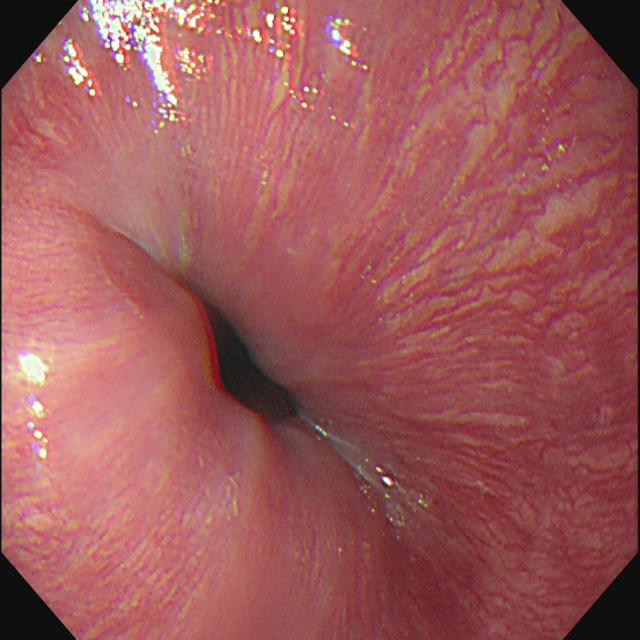I: (99, 213, 373, 498)
U: (36, 2, 229, 129), (362, 455, 432, 529), (12, 349, 53, 463), (229, 3, 303, 61), (280, 80, 354, 127), (325, 15, 372, 75), (312, 417, 334, 445)
